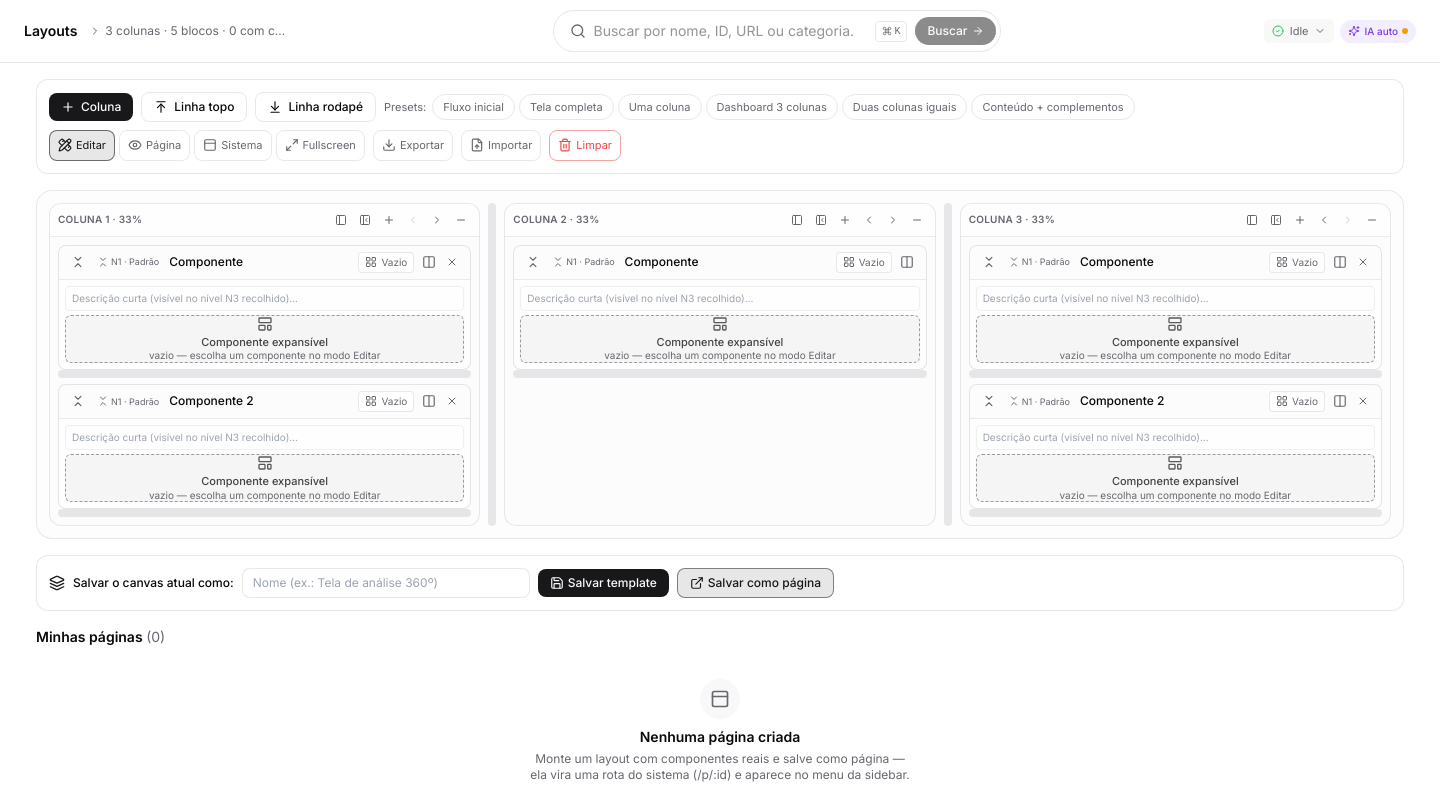
Test: LayoutBuilder (UI) › linhas: adiciona bloco no topo e no rodapé (header + status)
Click the button with aria-label "Adicionar linha no topo": point(194, 107) [141, 92, 247, 122]
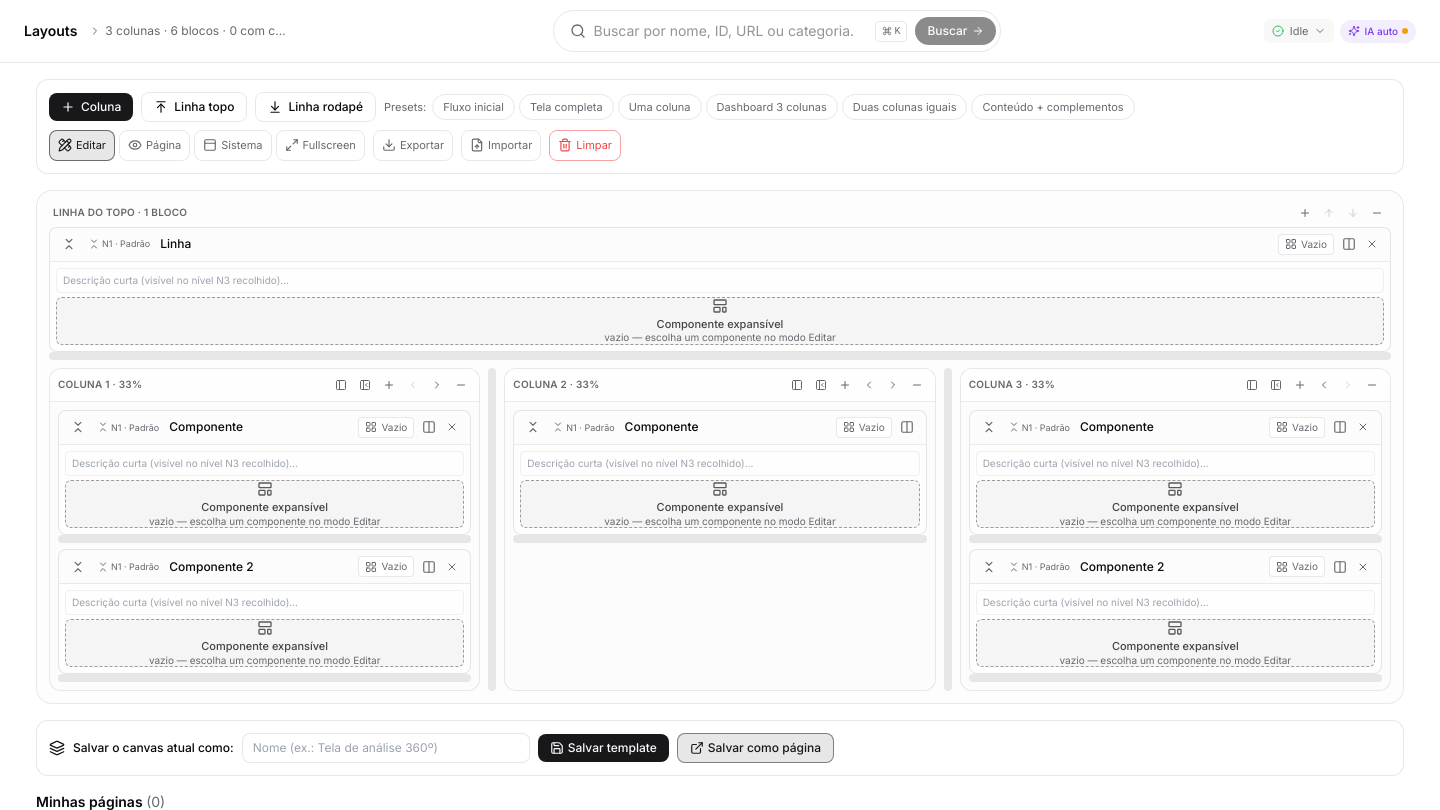
Click the button with aria-label "Adicionar linha no rodapé": point(316, 107) [256, 92, 376, 122]
(page scrolled)
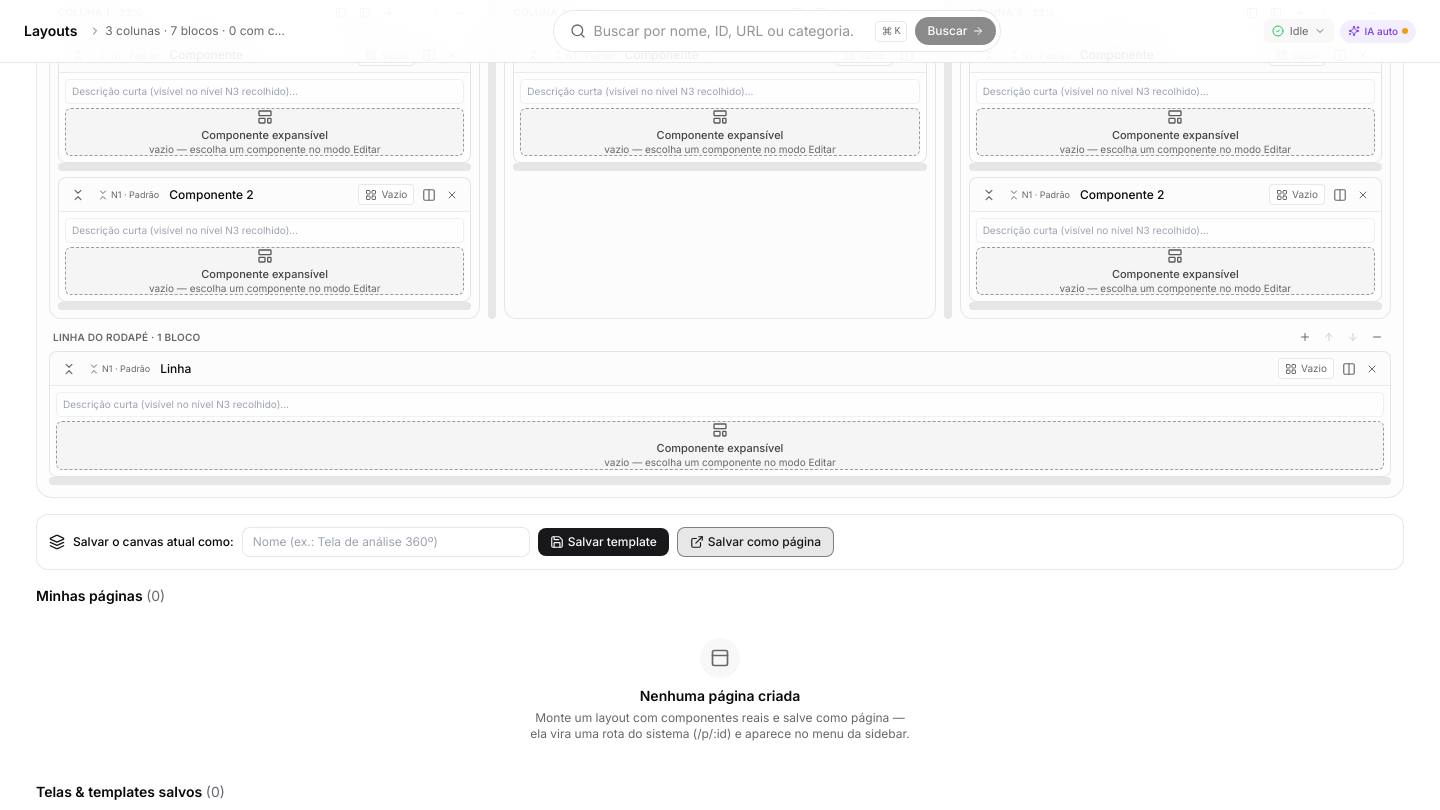
Expected: the element "Linha do rodapé" is shown, [49, 327, 1391, 485]
